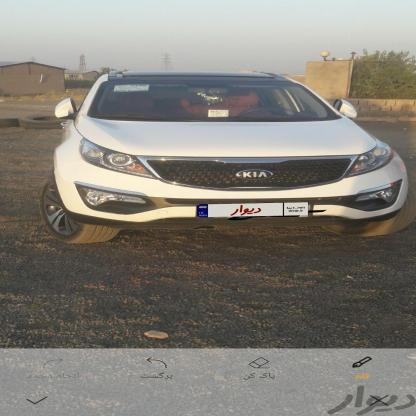Car: (0, 74, 416, 248)
